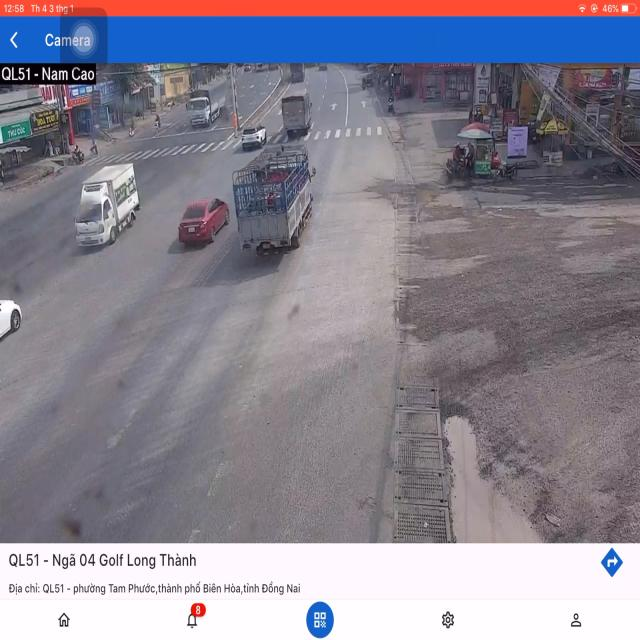car: (178, 196, 230, 248), (241, 124, 266, 152)
truck: (236, 140, 316, 264), (76, 160, 139, 250), (186, 79, 227, 127), (282, 88, 312, 140)
